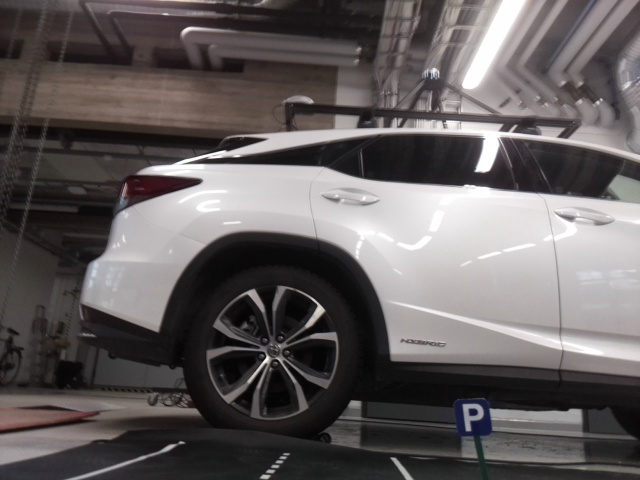Parking: (452, 396, 492, 436)
